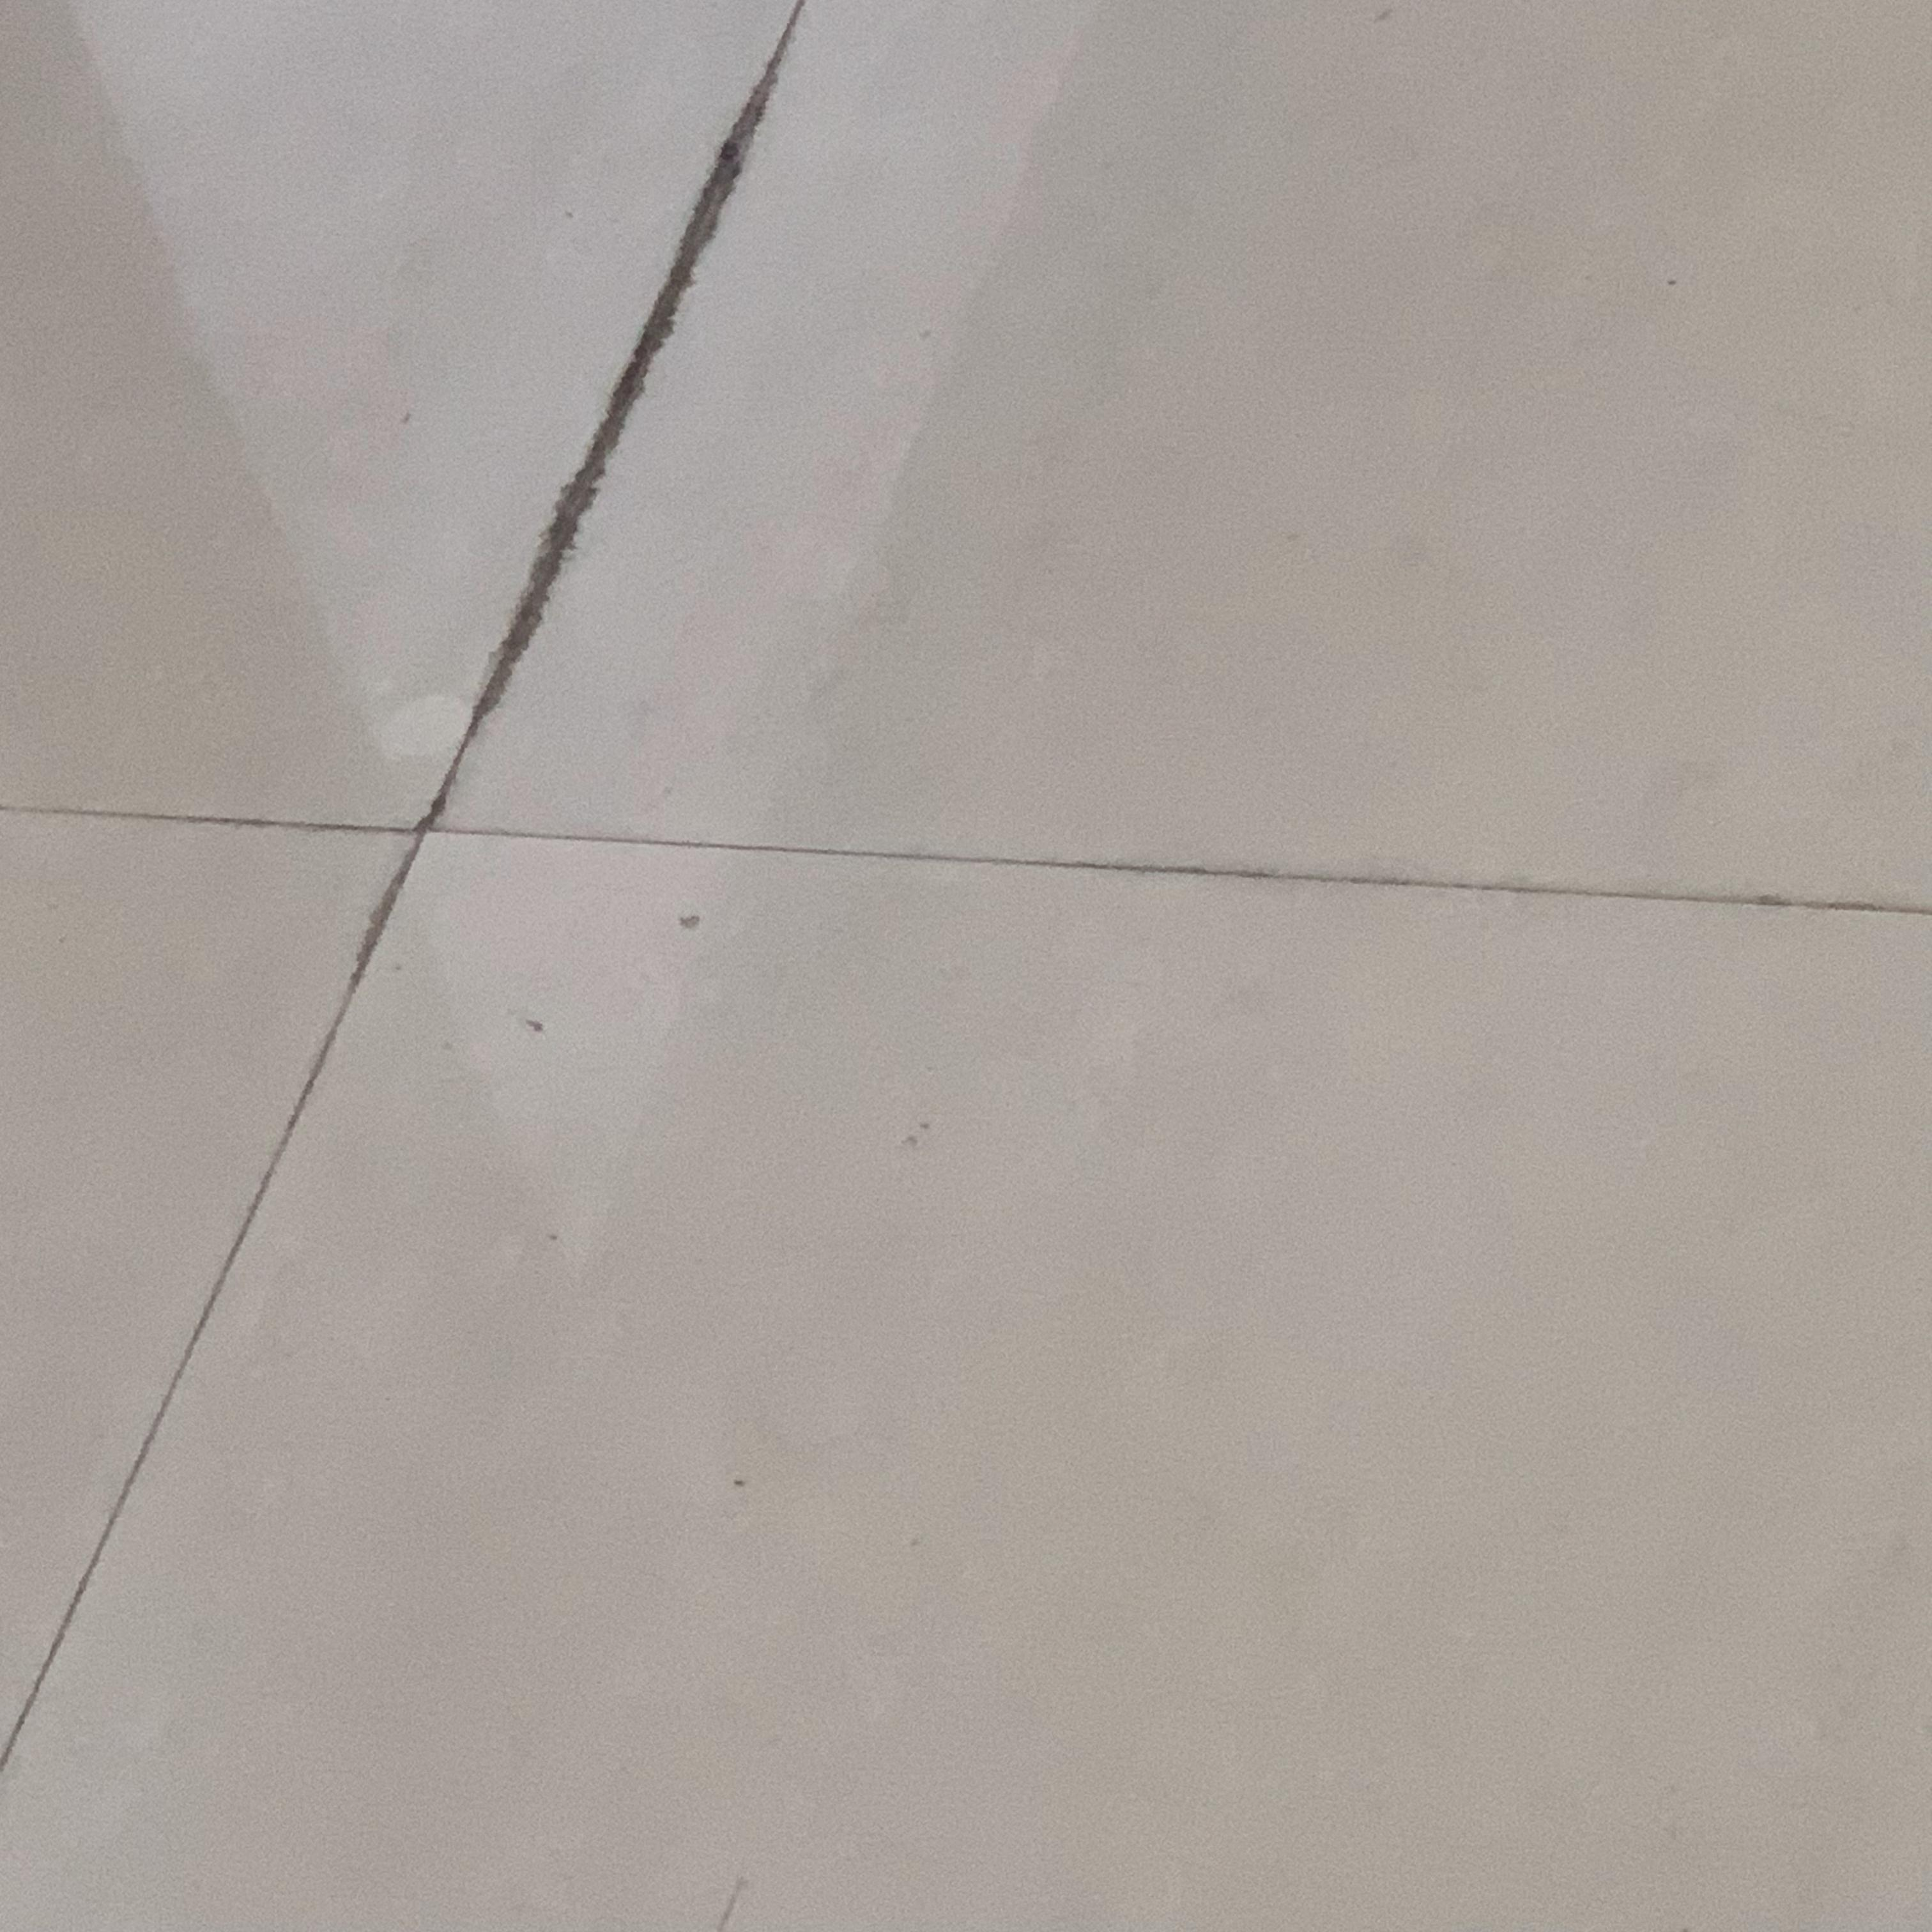reflection: (60, 0, 1102, 1276)
